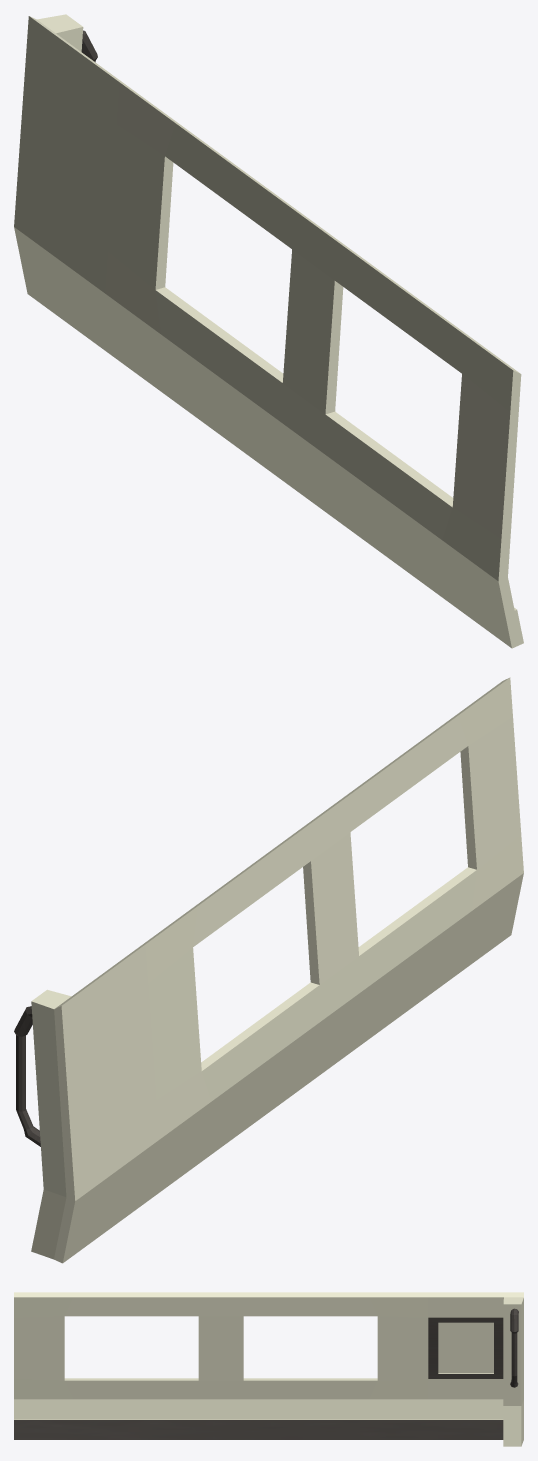
The model's file is subwayWall2.glb.
3 renders of one model, top to bottom at view 1: azimuth 30°, elevation 25°; view 2: azimuth 150°, elevation 25°; view 3: azimuth 270°, elevation 25°, orthographic. The views are drawn at different scales.
Parts seen in each view (by area): view 1: Cube; view 2: Cube; view 3: Cube.
Part boxes in pixels (x1,y1,x2,y2): Cube: (14, 14, 523, 648); Cube: (14, 677, 523, 1263); Cube: (14, 1292, 523, 1446).
Bounding box in the file's own units: 2.16 × 7.73 × 24.44.
2 materials, 1 textured.
